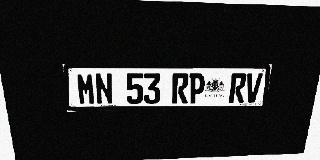3: (144, 73, 161, 104)
5: (126, 73, 143, 104)
M: (76, 73, 96, 105)
N: (95, 73, 113, 105)
P: (188, 73, 206, 103)
R: (229, 73, 247, 103), (172, 73, 189, 104)
V: (244, 73, 263, 103)
